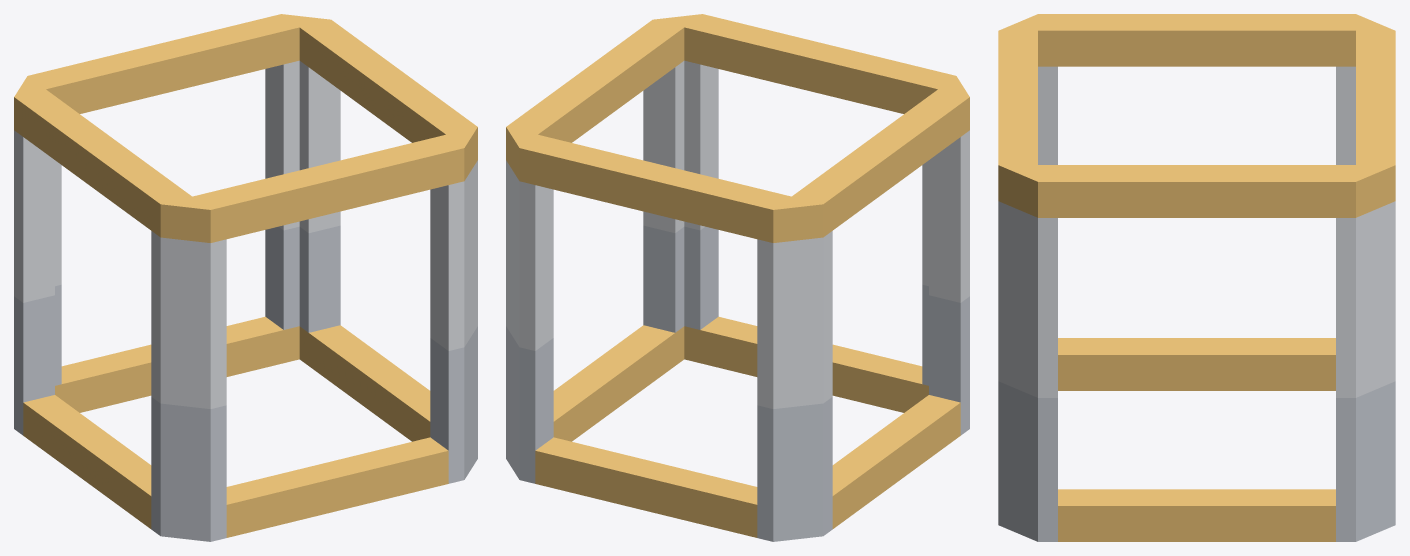
File: structure_detailed.glb
3 views of the same model, side by side, from view 1: azimuth 30°, elevation 25°; view 2: azimuth 150°, elevation 25°; view 3: azimuth 270°, elevation 25° (orthographic). The views are drawn at different scales.
Visible parts, largest first — view 1: structure_detailed; view 2: structure_detailed; view 3: structure_detailed.
Boxes of the visible parts, x1,y1,x2,y2 form: structure_detailed: (14, 14, 477, 541); structure_detailed: (506, 14, 969, 541); structure_detailed: (998, 14, 1395, 541).
Bounding box in the file's own units: 1 × 1 × 1.
